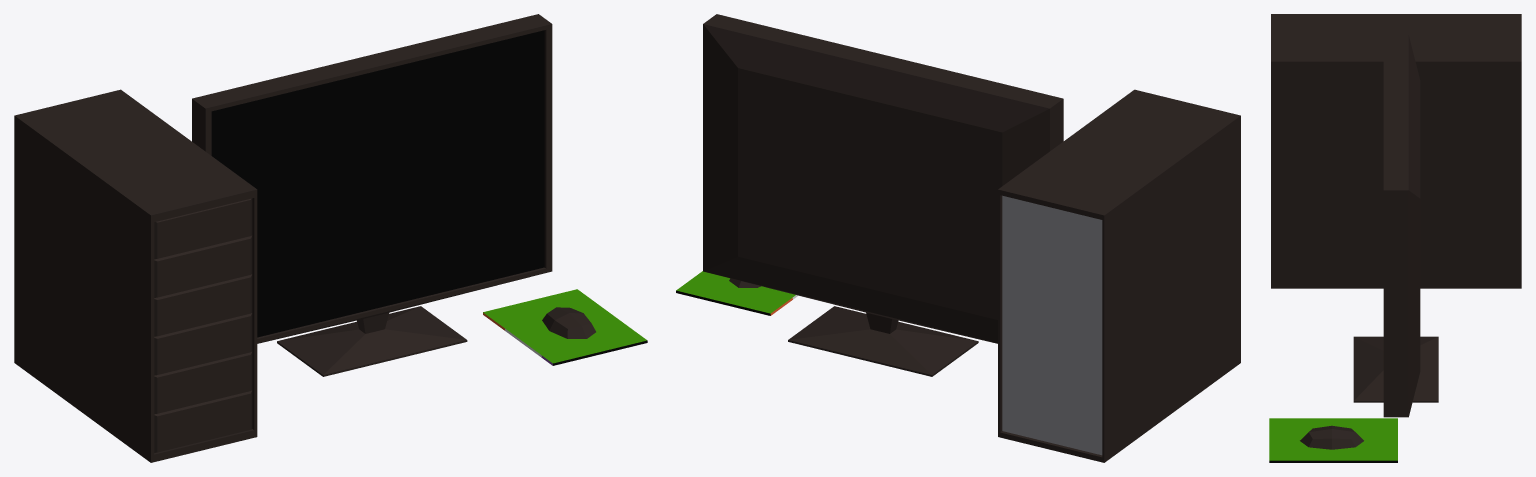
The model's file is Computer.gltf.
The picture shows the model from 3 angles, left to right: view 1: azimuth 30°, elevation 25°; view 2: azimuth 150°, elevation 25°; view 3: azimuth 270°, elevation 25°; orthographic projection. The views are drawn at different scales.
Visible parts, largest first — view 1: Monitor, ComputerTower, Mousepad, Mouse; view 2: Monitor, ComputerTower, Mousepad; view 3: ComputerTower, Monitor, Mousepad, Mouse.
Part boxes in pixels (x1=…): Monitor: x1=192, y1=14, x2=552, y2=376; ComputerTower: x1=14, y1=89, x2=257, y2=462; Mousepad: x1=483, y1=289, x2=647, y2=365; Mouse: x1=542, y1=307, x2=595, y2=338; Monitor: x1=703, y1=14, x2=1063, y2=376; ComputerTower: x1=998, y1=89, x2=1240, y2=462; Mousepad: x1=676, y1=271, x2=798, y2=315; ComputerTower: x1=1271, y1=14, x2=1521, y2=288; Monitor: x1=1353, y1=35, x2=1438, y2=417; Mousepad: x1=1269, y1=418, x2=1397, y2=462; Mouse: x1=1300, y1=425, x2=1363, y2=449.
Size of what is drawn, in the model's own units: 1.05 by 0.5684 by 0.5032.
Materials: 1 (1 with a texture image).
